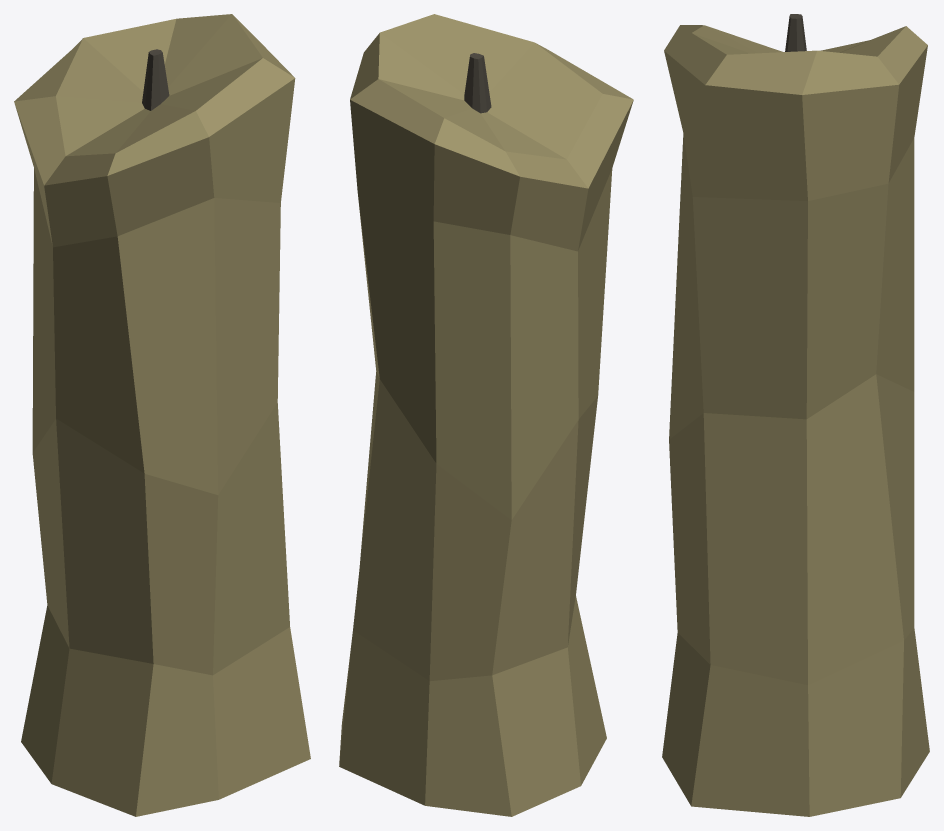
The model's file is Candle_2.fbx.
3 renders of one model, left to right at view 1: azimuth 30°, elevation 25°; view 2: azimuth 150°, elevation 25°; view 3: azimuth 270°, elevation 25°, orthographic. The views are drawn at different scales.
Parts seen in each view (by area): view 1: Candle_2; view 2: Candle_2; view 3: Candle_2.
Boxes of the visible parts, left/top/right/bottom form: Candle_2: left=14, top=14, right=310, bottom=816; Candle_2: left=339, top=14, right=633, bottom=816; Candle_2: left=662, top=14, right=929, bottom=816.
Size of the model in its own units: 4.38 by 12.47 by 4.
